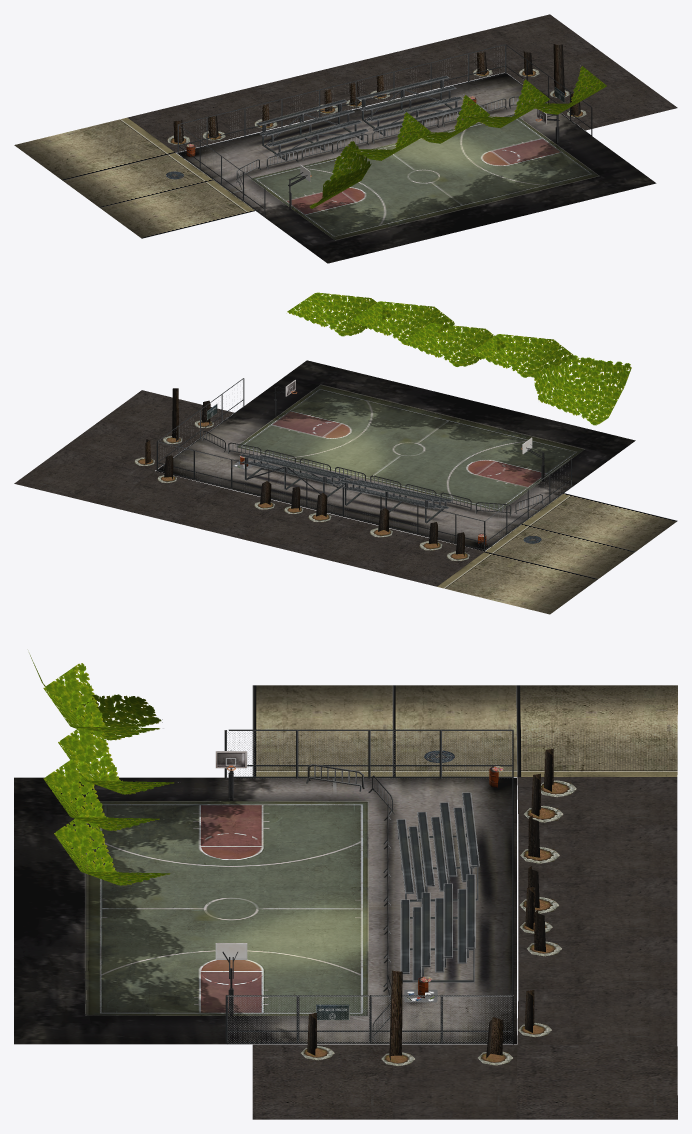
The model's file is court_rucker_mesh.fbx.
The picture shows the model from 3 angles, top to bottom: view 1: azimuth 30°, elevation 25°; view 2: azimuth 150°, elevation 25°; view 3: azimuth 270°, elevation 25°; orthographic projection. The views are drawn at different scales.
Parts seen in each view (by area): view 1: rucker_court_mesh, rucker_trees_mesh; view 2: rucker_court_mesh, rucker_trees_mesh; view 3: rucker_court_mesh, rucker_trees_mesh.
Part boxes in pixels (left/top/right/bottom): rucker_court_mesh: left=14, top=14, right=677, bottom=263; rucker_trees_mesh: left=166, top=44, right=606, bottom=216; rucker_court_mesh: left=14, top=360, right=677, bottom=614; rucker_trees_mesh: left=156, top=292, right=631, bottom=550; rucker_court_mesh: left=14, top=685, right=677, bottom=1119; rucker_trees_mesh: left=29, top=653, right=513, bottom=1044.
Bounding box in the file's own units: 209 × 35.14 × 135.
